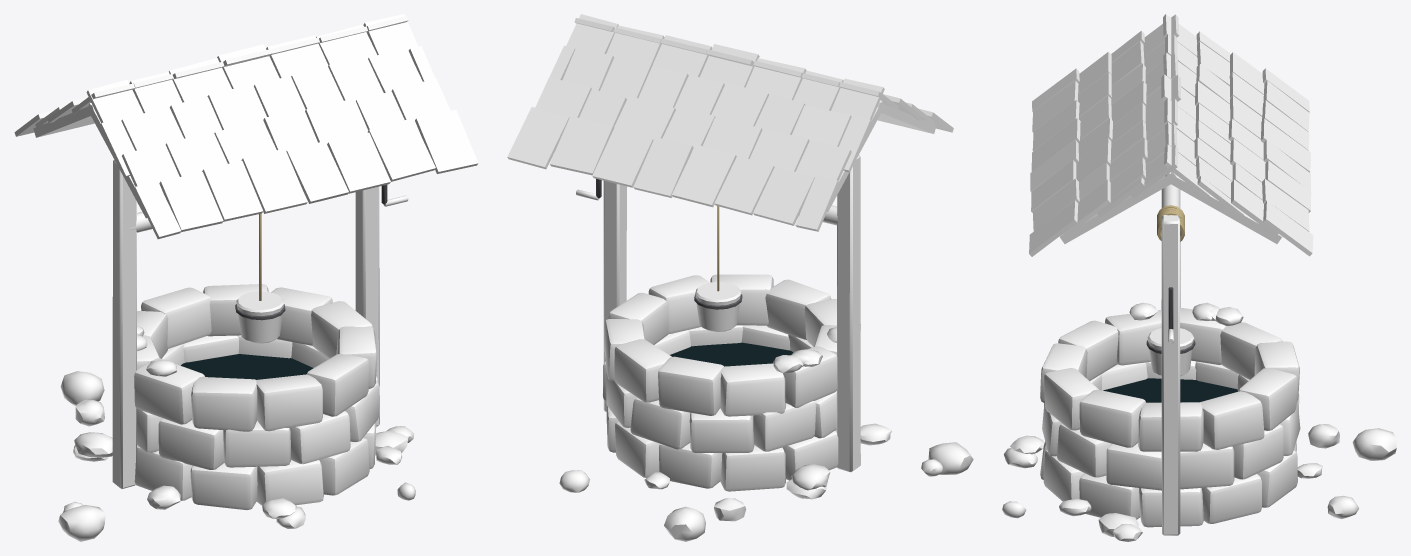
The model's file is brunnen.glb.
3 renders of one model, left to right at view 1: azimuth 30°, elevation 25°; view 2: azimuth 150°, elevation 25°; view 3: azimuth 270°, elevation 25°, orthographic. The views are drawn at different scales.
Visible parts, largest first — view 1: brunnen_netz, Eimer_netz; view 2: brunnen_netz, Eimer_netz; view 3: brunnen_netz, Kurbel_netz, Eimer_netz.
Part boxes in pixels (left/top/right/bottom): brunnen_netz: left=14, top=14, right=478, bottom=541; Eimer_netz: left=235, top=291, right=285, bottom=343; brunnen_netz: left=507, top=14, right=973, bottom=541; Eimer_netz: left=694, top=281, right=742, bottom=331; brunnen_netz: left=1002, top=14, right=1396, bottom=541; Kurbel_netz: left=1157, top=184, right=1184, bottom=343; Eimer_netz: left=1146, top=328, right=1195, bottom=376.
Size of what is drawn, in the model's own units: 2.66 by 2.81 by 2.51.
